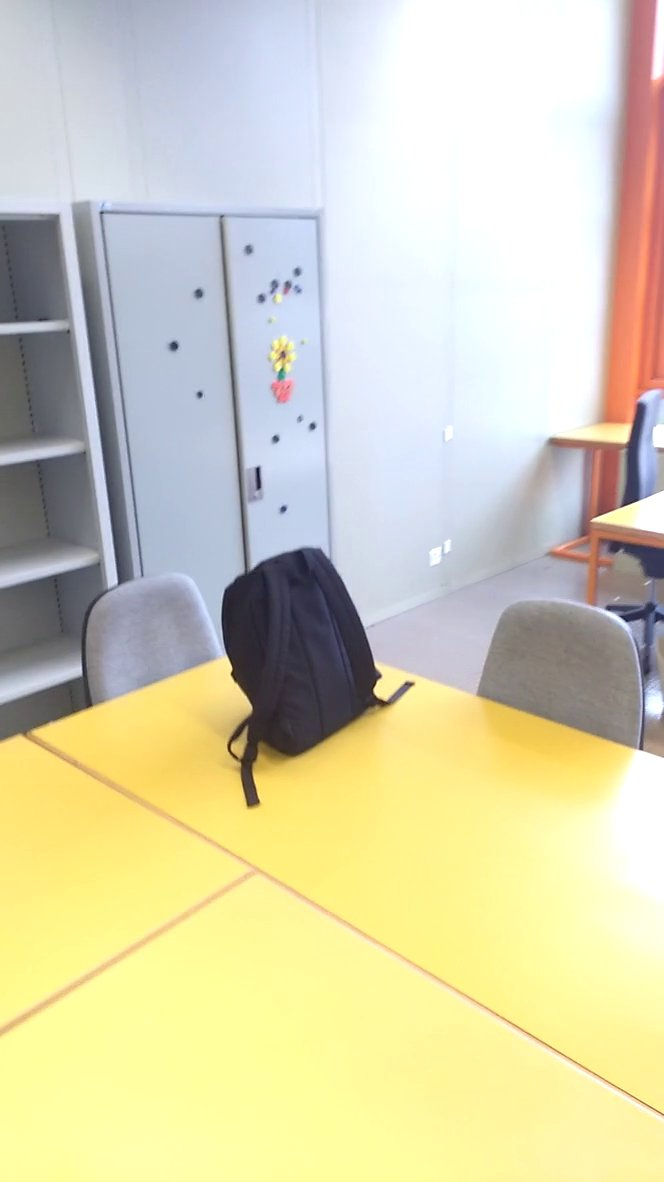bag: (216, 540, 424, 812)
chair: (462, 585, 664, 788), (70, 570, 226, 716), (587, 375, 664, 667)
